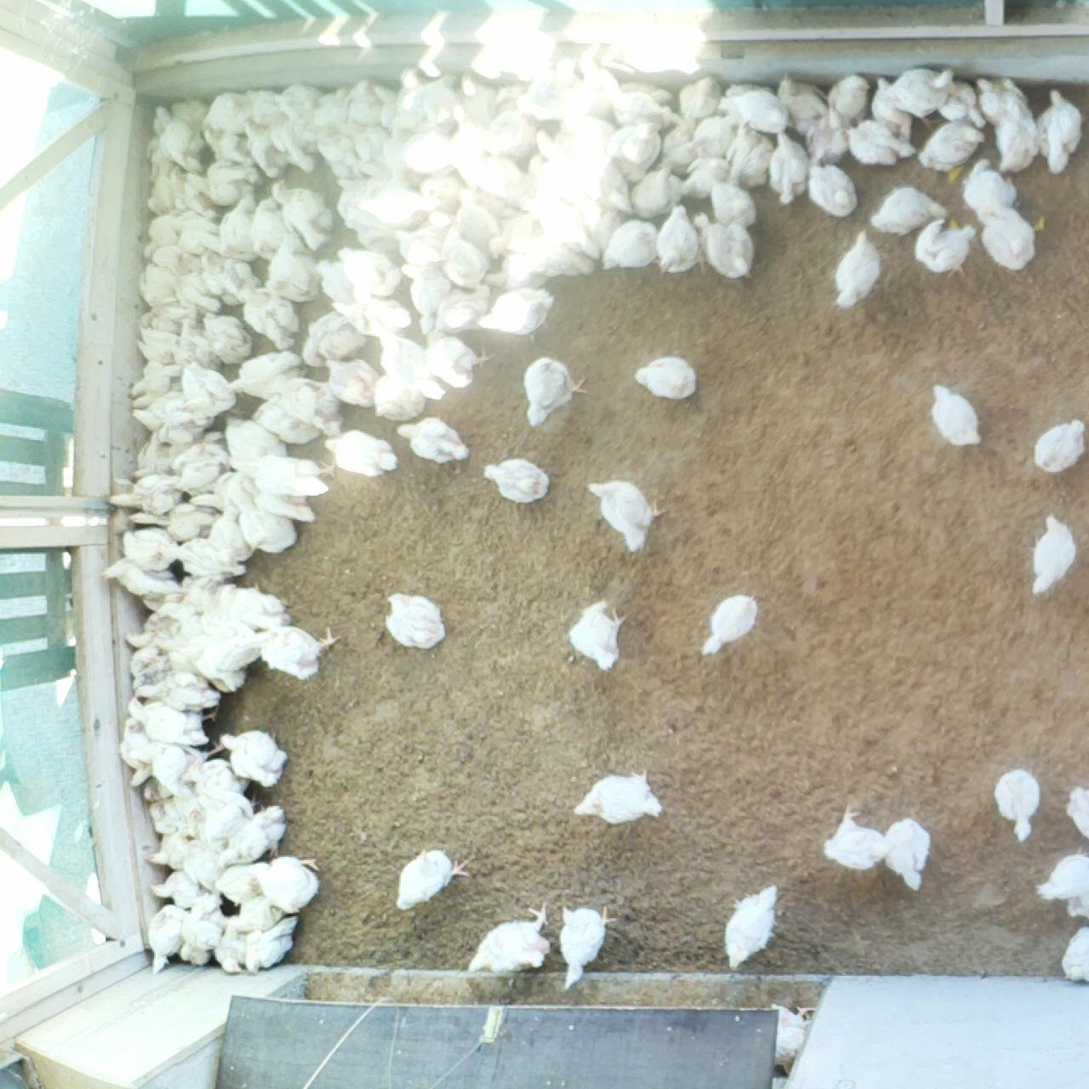chicken: (533, 124, 635, 206), (465, 895, 557, 978), (583, 471, 668, 556), (185, 608, 271, 687), (240, 618, 343, 683), (573, 767, 670, 830), (556, 901, 620, 994), (228, 449, 339, 502), (723, 874, 784, 970), (388, 848, 473, 916), (1028, 82, 1086, 178), (376, 325, 448, 402), (416, 323, 496, 392), (519, 352, 590, 429), (977, 202, 1052, 273), (822, 800, 894, 872), (143, 740, 222, 805), (223, 487, 299, 554), (268, 178, 334, 253), (882, 59, 963, 120), (124, 695, 219, 747), (215, 727, 292, 791), (272, 370, 345, 437), (695, 588, 763, 659), (246, 851, 323, 913), (567, 597, 630, 672), (830, 225, 885, 310), (1025, 512, 1078, 600), (868, 181, 951, 237), (224, 347, 307, 402), (317, 428, 401, 482), (864, 71, 916, 157), (473, 285, 559, 336), (691, 212, 757, 278), (222, 802, 289, 867), (915, 215, 979, 283), (880, 811, 934, 891), (522, 195, 594, 254), (384, 590, 450, 654), (760, 996, 817, 1070), (993, 761, 1045, 842), (917, 118, 988, 177), (652, 202, 705, 281), (103, 469, 183, 521), (160, 536, 252, 581), (436, 216, 493, 288), (328, 292, 413, 340), (392, 413, 470, 465), (240, 915, 304, 978), (600, 119, 666, 180), (928, 379, 986, 448), (171, 893, 224, 968), (719, 80, 794, 133), (516, 56, 579, 119), (719, 118, 774, 190), (137, 901, 189, 977), (335, 244, 403, 302), (1032, 851, 1089, 920), (455, 149, 522, 207), (98, 556, 182, 602), (483, 452, 555, 505), (628, 352, 703, 402), (1029, 412, 1089, 474), (121, 501, 216, 540), (983, 99, 1035, 170), (400, 258, 449, 333), (240, 286, 298, 349), (266, 240, 323, 304), (597, 215, 661, 272), (151, 103, 206, 169), (215, 580, 292, 627), (130, 388, 206, 435), (719, 115, 773, 181), (624, 160, 684, 219), (301, 312, 365, 367), (763, 128, 805, 211), (199, 248, 260, 305), (251, 397, 321, 446), (777, 67, 827, 135), (118, 528, 193, 573), (243, 479, 318, 524), (181, 357, 236, 418), (804, 159, 859, 219), (359, 186, 434, 230), (576, 50, 623, 120), (804, 103, 855, 167), (938, 74, 993, 133), (133, 671, 218, 709), (321, 354, 381, 407), (221, 412, 280, 464), (118, 712, 158, 788), (688, 109, 745, 162), (179, 745, 246, 790), (155, 576, 219, 623), (385, 64, 427, 135), (407, 71, 457, 130), (210, 858, 274, 904), (840, 117, 904, 163), (678, 75, 726, 136), (199, 308, 253, 362), (273, 114, 319, 176), (432, 283, 490, 332), (607, 85, 678, 124), (167, 315, 220, 367), (486, 251, 564, 286), (405, 128, 465, 173), (205, 502, 251, 560), (173, 834, 224, 886), (485, 209, 538, 259), (189, 164, 262, 200), (708, 182, 761, 231), (343, 126, 395, 175), (481, 113, 535, 160), (447, 101, 490, 160), (415, 170, 465, 219), (154, 402, 212, 444), (121, 608, 179, 650), (374, 125, 414, 185), (396, 212, 453, 254), (334, 178, 377, 232), (170, 168, 215, 219), (175, 455, 228, 498), (147, 868, 205, 907), (157, 617, 205, 664), (456, 74, 499, 126), (227, 896, 284, 935), (251, 196, 287, 257), (1053, 920, 1089, 981), (172, 428, 226, 468), (173, 210, 223, 253), (202, 88, 254, 129), (132, 259, 178, 305), (680, 158, 731, 199), (212, 914, 248, 972), (128, 360, 172, 407), (316, 256, 357, 306), (218, 199, 257, 251), (171, 269, 220, 310), (196, 789, 238, 836), (134, 317, 179, 360), (133, 427, 169, 480), (315, 130, 353, 180), (836, 69, 875, 117), (245, 120, 279, 175), (349, 77, 395, 117), (128, 650, 167, 696), (203, 126, 249, 165), (660, 117, 698, 164), (147, 796, 191, 836), (355, 221, 405, 256), (1059, 780, 1089, 838), (278, 80, 322, 119), (455, 189, 491, 236), (143, 215, 178, 263), (314, 81, 350, 127), (145, 115, 171, 178), (976, 71, 1030, 99), (143, 834, 183, 871), (143, 171, 174, 216), (245, 86, 279, 121), (496, 81, 528, 113)
